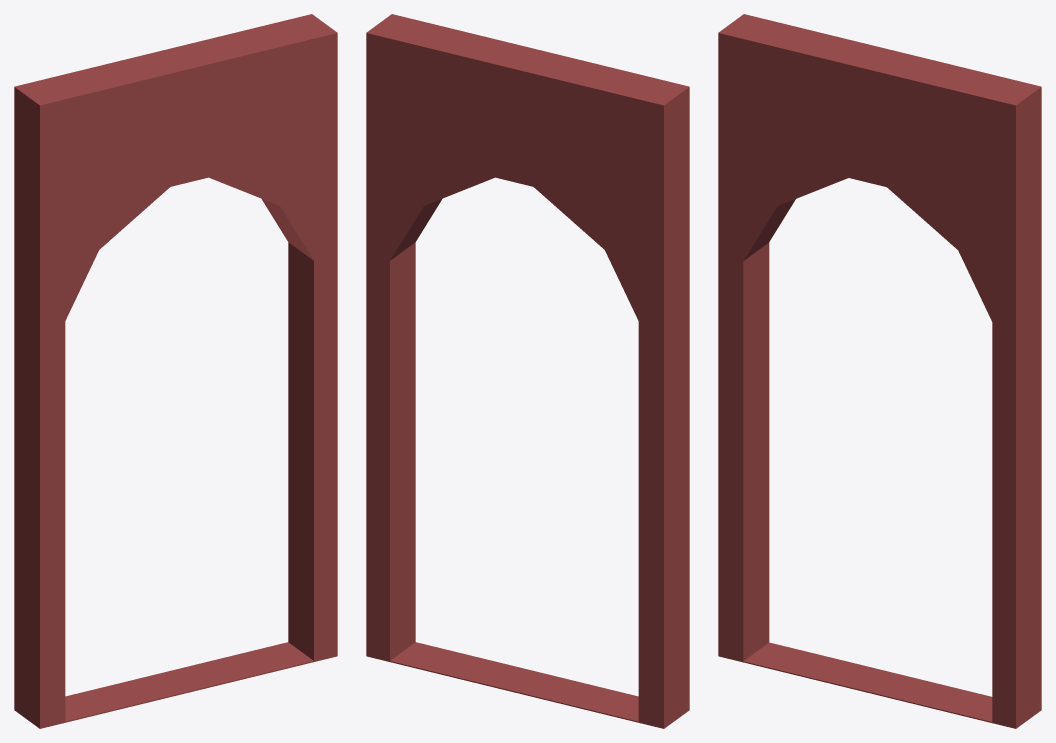
The model's file is PeachDoorframe.glb.
3 renders of one model, left to right at view 1: azimuth 30°, elevation 25°; view 2: azimuth 150°, elevation 25°; view 3: azimuth 330°, elevation 25°, orthographic.
Visible parts, largest first — view 1: wall_peach_door; view 2: wall_peach_door; view 3: wall_peach_door.
Part boxes in pixels (x1,y1,x2,y2): wall_peach_door: (14,14,337,728); wall_peach_door: (366,14,689,728); wall_peach_door: (718,14,1041,728).
Size of what is drawn, in the model's own units: 2 by 4 by 0.3.
1 material, 1 textured.
